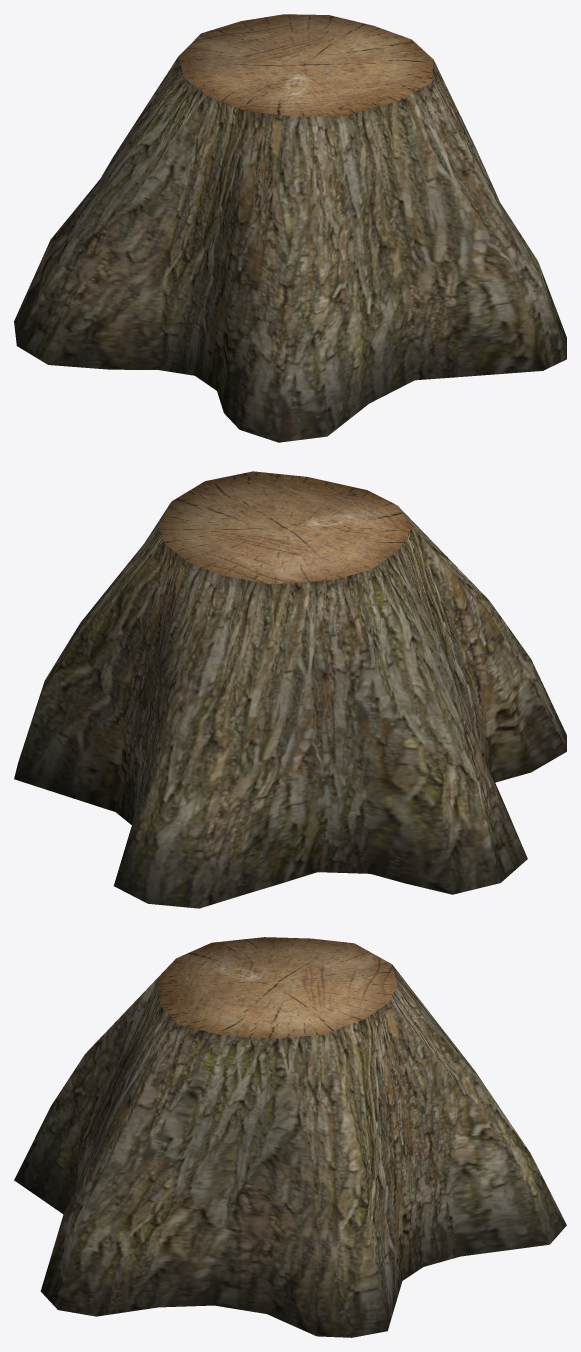
Rendered from Boomstronk.fbx.
3 renders of one model, top to bottom at view 1: azimuth 30°, elevation 25°; view 2: azimuth 150°, elevation 25°; view 3: azimuth 270°, elevation 25°, orthographic. The views are drawn at different scales.
Visible parts, largest first — view 1: Extrude NURBS.1; view 2: Extrude NURBS.1; view 3: Extrude NURBS.1.
Part boxes in pixels (box(x1,y1,x2,y2)): Extrude NURBS.1: box(14, 14, 566, 442); Extrude NURBS.1: box(14, 471, 566, 908); Extrude NURBS.1: box(14, 937, 566, 1337).
Bounding box in the file's own units: 8.17 × 4.27 × 8.49.
Materials: 1 (1 with a texture image).
